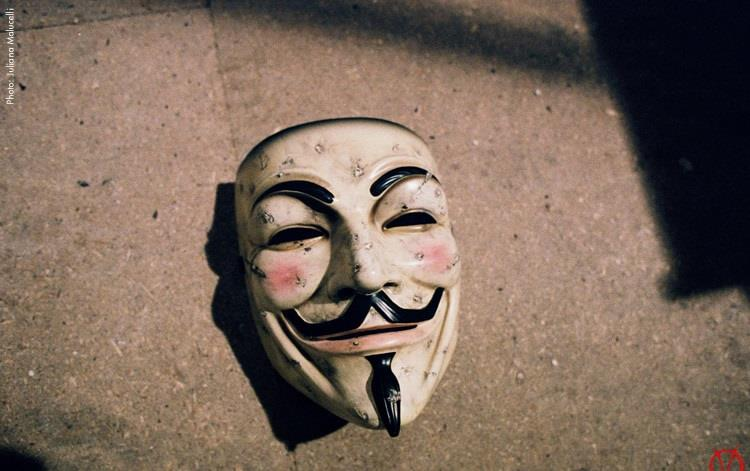V4Vendetta_mask: (233, 113, 457, 435)
